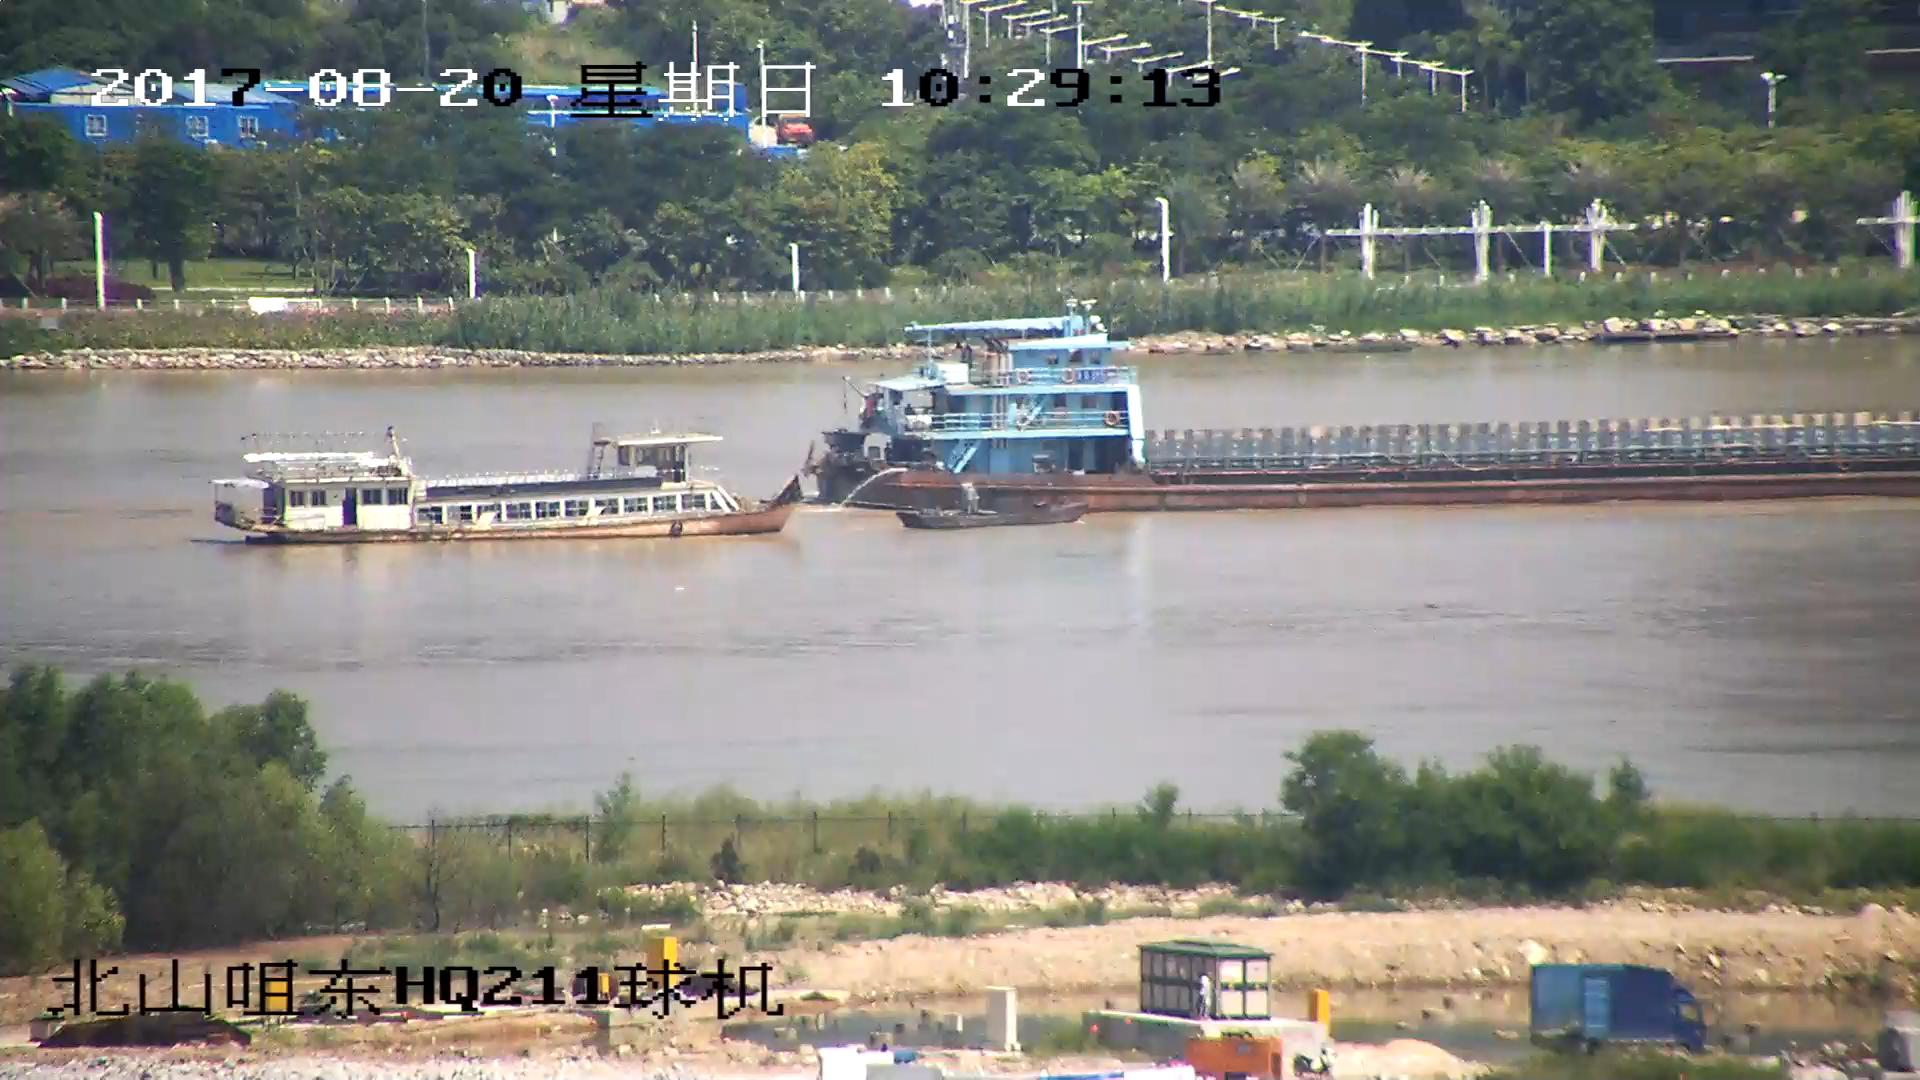fishing boat: (199, 425, 808, 546), (902, 478, 1093, 527)
ore carrier: (778, 299, 1920, 515)
